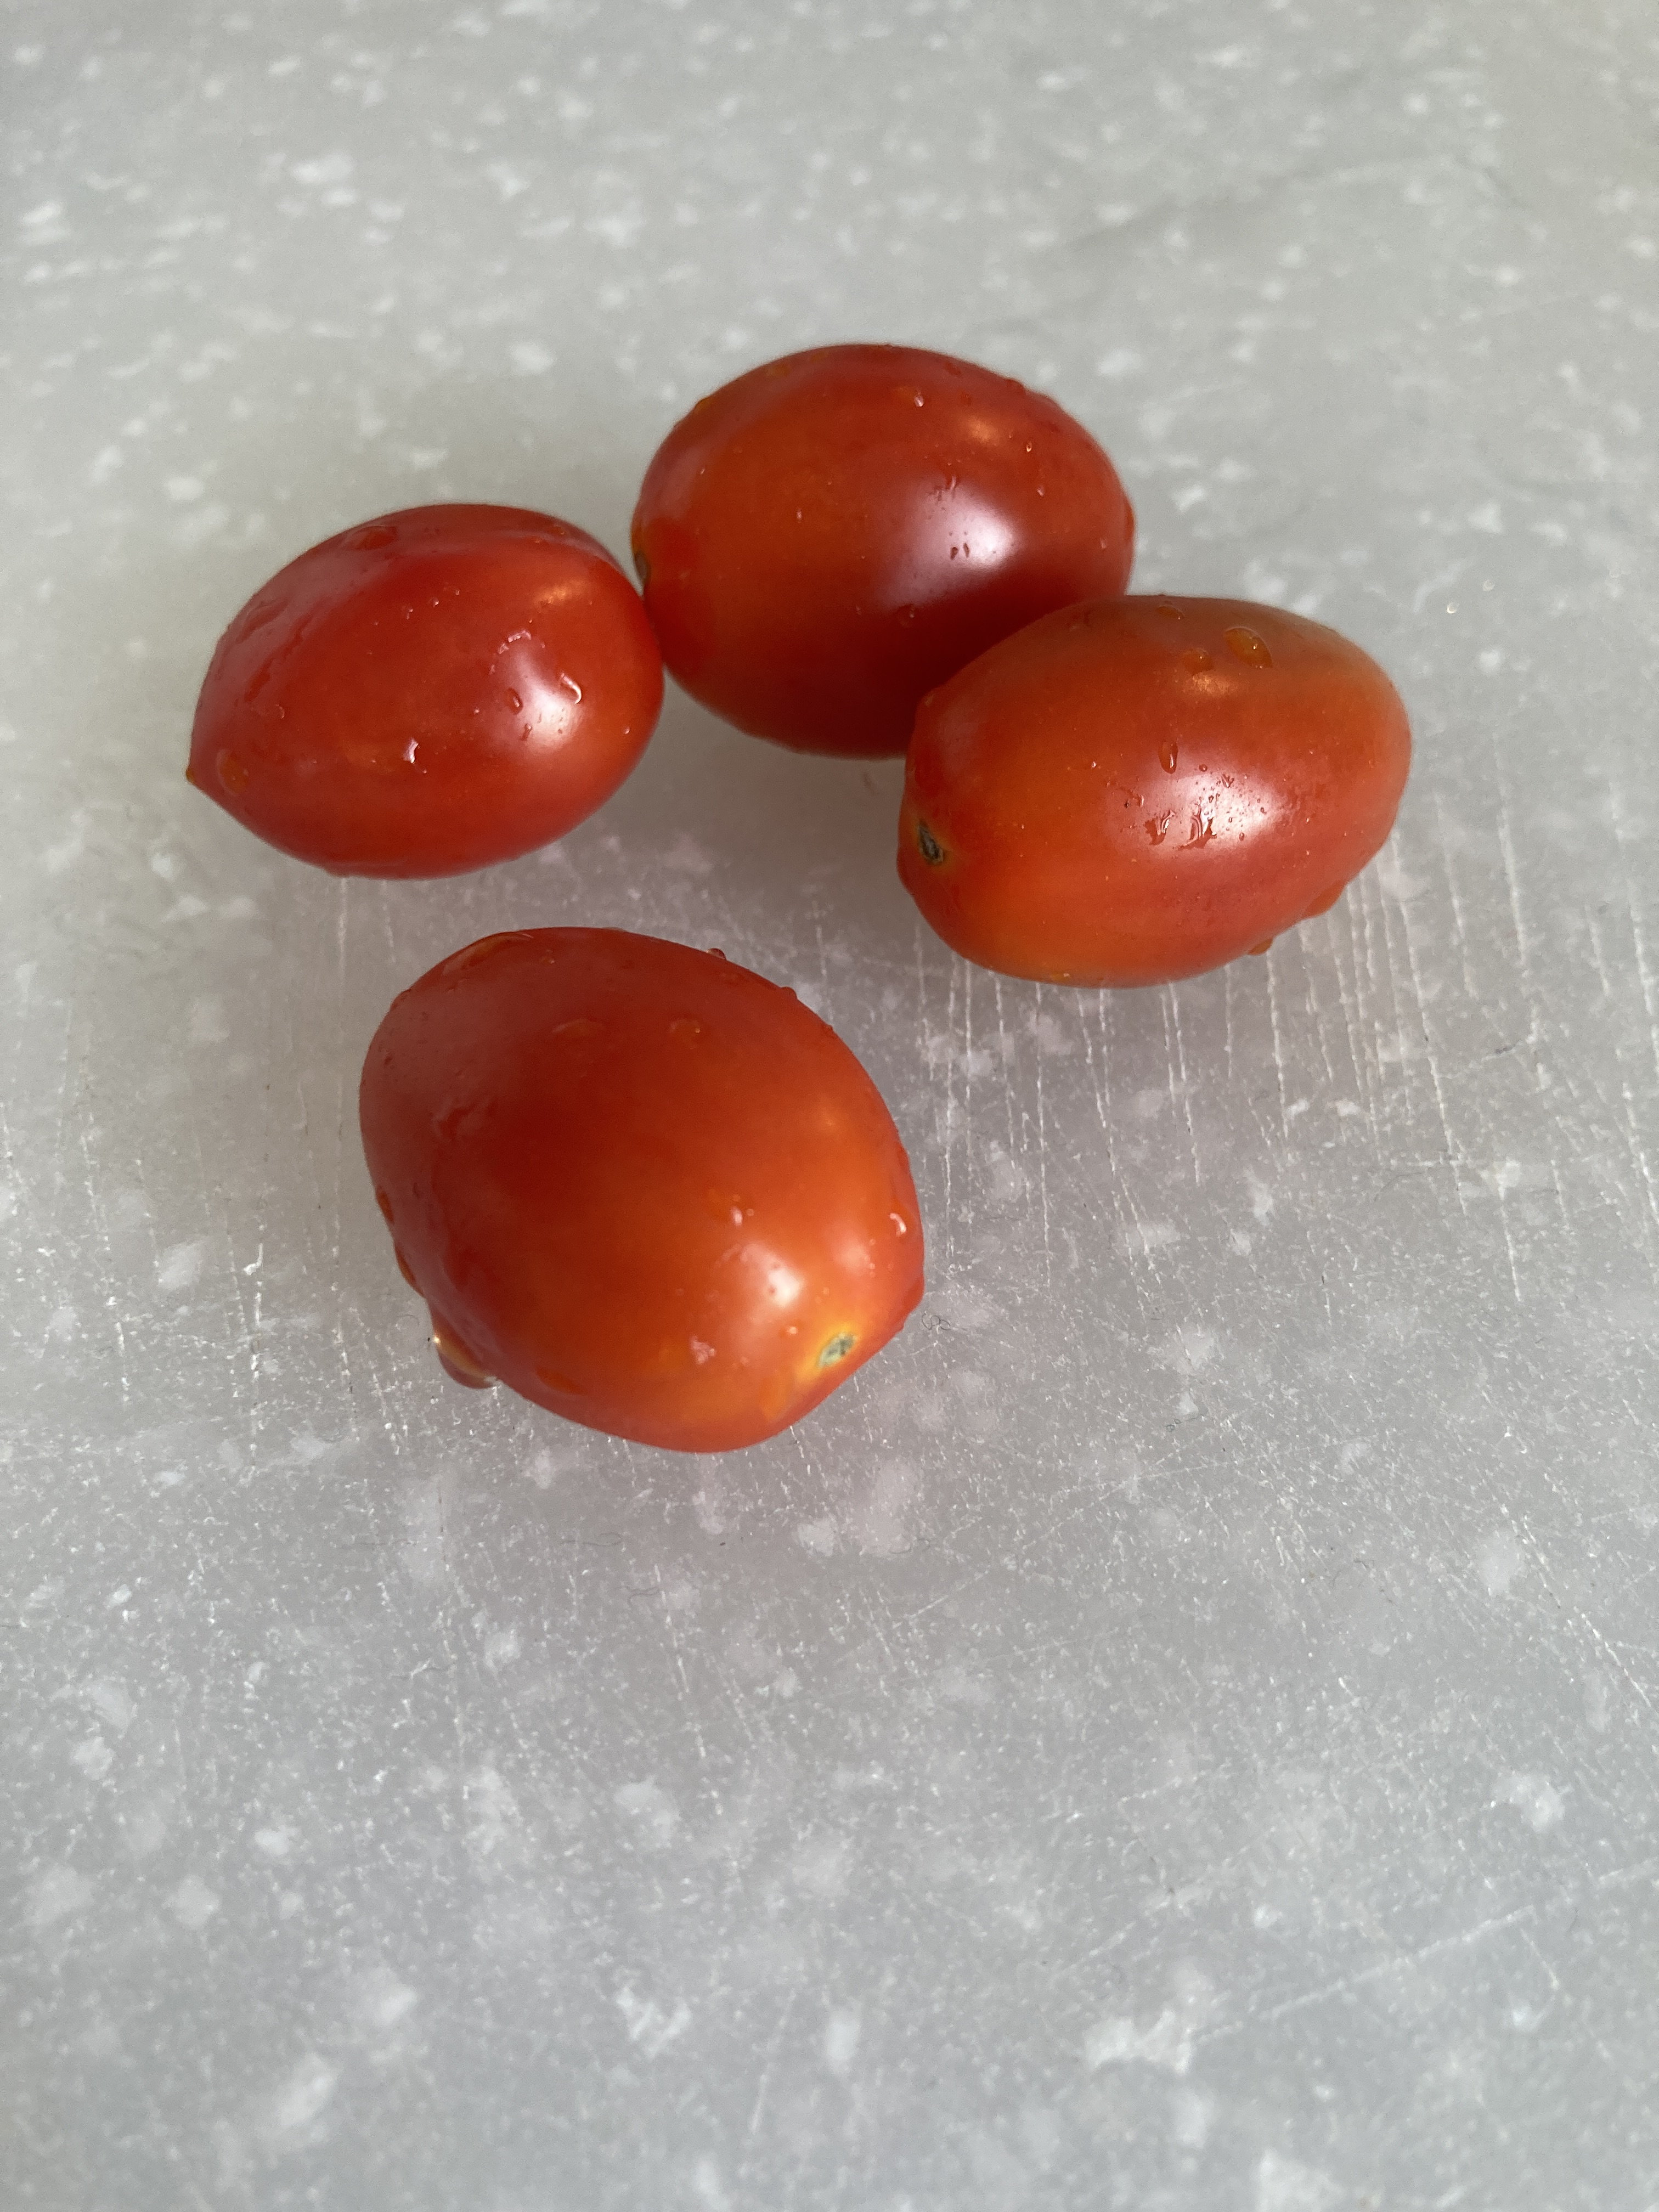healthy-tomato: (352, 921, 927, 1454), (627, 336, 1136, 761), (889, 592, 1412, 993), (179, 493, 657, 885)
